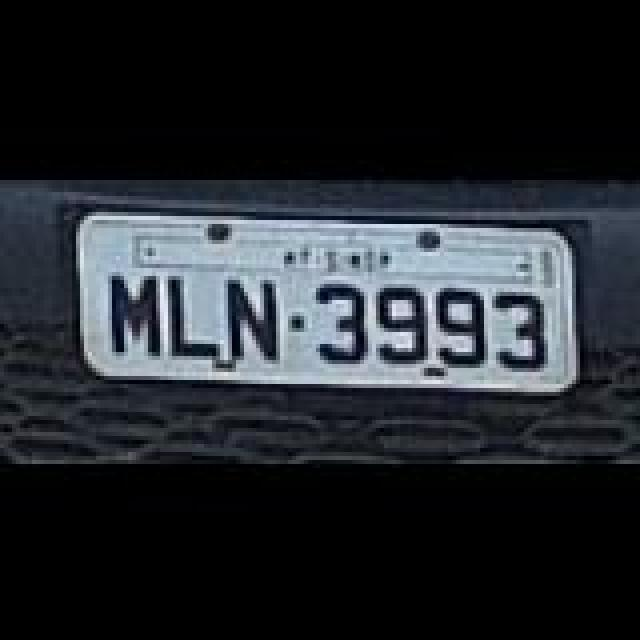3: (316, 280, 372, 360), (496, 288, 552, 368)
9: (436, 284, 492, 364), (378, 280, 430, 360)
L: (168, 276, 224, 356)
M: (108, 270, 164, 354)
N: (224, 274, 280, 358)
